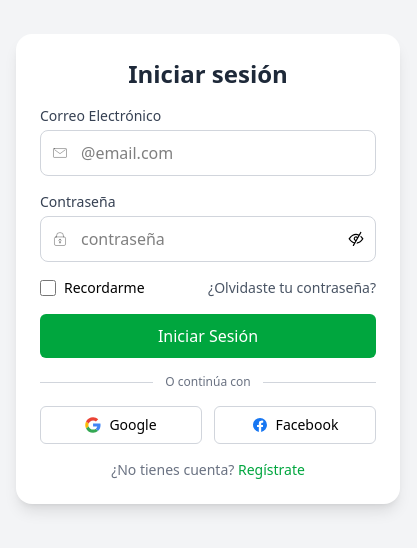
Test case: LoginForm › muestra error de validacion al enviar vacio
This screenshot has width=417, height=548.
What coordinates should you click on to do the following:
click the button "Iniciar Sesión"
I would click on:
 (208, 336)
Its box is top-left (40, 314), bottom-right (376, 358).
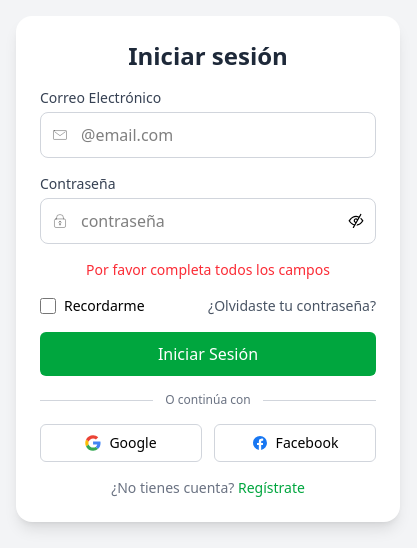
Check: the text "Por favor completa todos los campos" is shown, box top-left (86, 260), bottom-right (330, 279)
